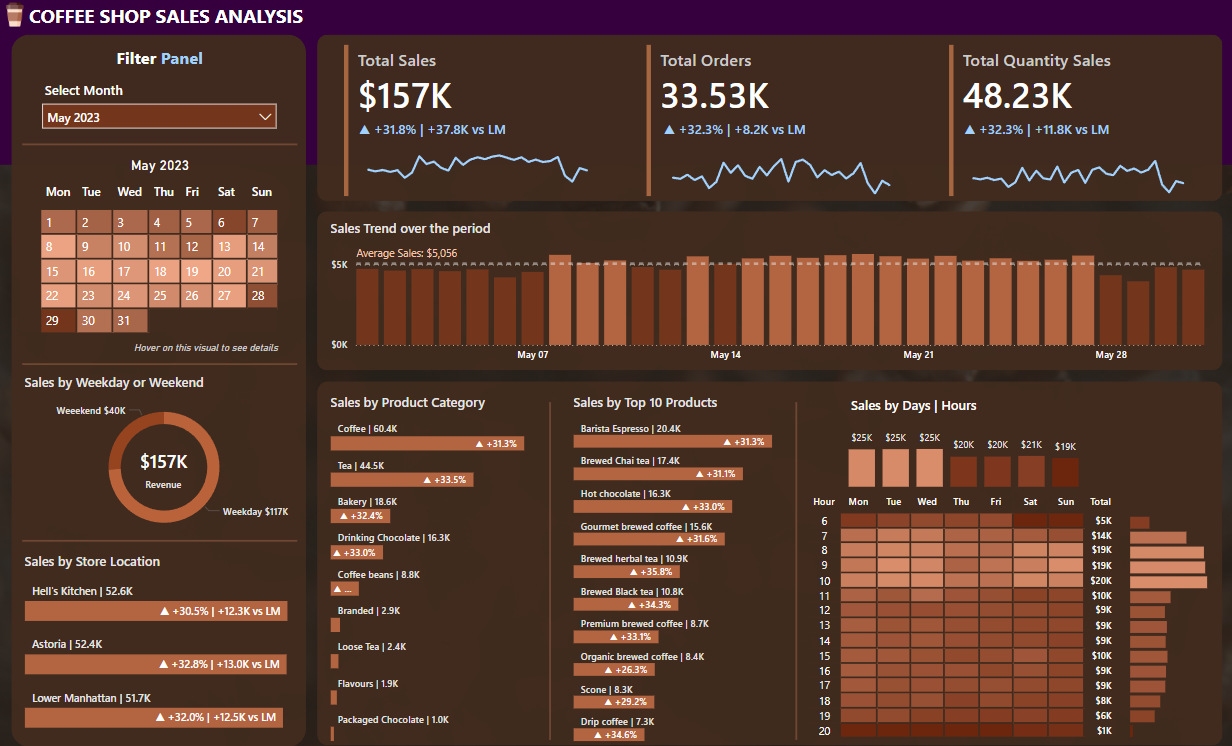

This screenshot's page, from the dashboard's own definition file:
{"tool":"powerbi","page":{"name":"Report Dashboard","canvas":[1400,850],"ordinal":0},"visuals":[{"type":"shape","box":[0,0,1400,190],"z":0},{"type":"shape","box":[15,42.5,333.8,806.2],"z":1000},{"type":"shape","box":[361.2,42.3,1025,188.7],"z":2000},{"type":"shape","box":[361.2,242.3,1025,180],"z":3000},{"type":"shape","box":[361.2,435,1025,412.5],"z":4000},{"type":"slicer","fields":{"Values":["DateTable.Month Year"]},"box":[40,90,285,72.5],"z":5000},{"type":"cardVisual","fields":{"Data":["Transactions.Total Sales"]},"box":[386.2,48.5,295,182.5],"z":6000},{"type":"cardVisual","fields":{"Data":["Transactions.Total Orders"]},"box":[728.8,48.5,295,182.5],"z":7000},{"type":"cardVisual","fields":{"Data":["Transactions.Total Quantity Sales"]},"box":[1071.2,48.5,295,182.5],"z":8000},{"type":"lineChart","fields":{"Y":["Transactions.Total Sales"],"Category":["DateTable.Date.Variation.Date Hierarchy.Year","DateTable.Date.Variation.Date Hierarchy.Quarter","DateTable.Date.Variation.Date Hierarchy.Month","DateTable.Date.Variation.Date Hierarchy.Day"]},"box":[403.8,139.8,277.5,91.2],"z":9000},{"type":"lineChart","fields":{"Y":["Transactions.Total Orders"],"Category":["DateTable.Date.Variation.Date Hierarchy.Year","DateTable.Date.Variation.Date Hierarchy.Quarter","DateTable.Date.Variation.Date Hierarchy.Month","DateTable.Date.Variation.Date Hierarchy.Day"]},"box":[748.8,139.8,275,88.8],"z":10000},{"type":"lineChart","fields":{"Y":["Transactions.Total Quantity Sales"],"Category":["DateTable.Date.Variation.Date Hierarchy.Year","DateTable.Date.Variation.Date Hierarchy.Quarter","DateTable.Date.Variation.Date Hierarchy.Month","DateTable.Date.Variation.Date Hierarchy.Day"]},"box":[1088.8,139.8,267.5,91.2],"z":11000},{"type":"card","fields":{"Values":["Min(DateTable.Month Year)"]},"box":[120,167.5,126.2,47.5],"z":12000},{"type":"textbox","box":[148.8,380.8,203.7,32.5],"z":13000},{"type":"pivotTable","fields":{"Columns":["DateTable.Day"],"Rows":["DateTable.Week Number"],"Values":["Min(DateTable.Date number)"]},"box":[20,201.2,325,206.2],"z":14000},{"type":"shape","box":[27.5,396.2,311.2,38.7],"z":15000},{"type":"shape","box":[27.5,147.5,311.2,38.7],"z":16000},{"type":"donutChart","title":"Sales by Weekday or Weekend","fields":{"Category":["DateTable.Weekday or Weekend"],"Y":["Transactions.Total Sales"]},"box":[25,426.2,325,192.5],"z":17000},{"type":"shape","box":[27.5,596.2,311.2,38.7],"z":18000},{"type":"card","fields":{"Values":["Transactions.Total Sales"]},"box":[123.8,507.5,126.2,53.8],"z":19000},{"type":"clusteredBarChart","title":"Sales by Store Location","fields":{"Y":["Transactions.Placehodler","Transactions.Total Sales"],"Category":["Transactions.store_location"]},"box":[25,628.8,336.2,206.2],"z":20000},{"type":"columnChart","title":"Sales Trend over the period","fields":{"Category":["Transactions.transaction_date"],"Y":["Transactions.Total Sales"]},"box":[371.2,251,1005,171.2],"z":21000},{"type":"clusteredBarChart","title":"Sales by Product Category","fields":{"Y":["Transactions.Placehodler","Transactions.Total Sales"],"Category":["Transactions.product_category"]},"box":[371.2,448.8,261.2,398.7],"z":22000},{"type":"shape","box":[881.2,458.8,45,382.5],"z":23000},{"type":"shape","box":[602.5,458.8,45,382.5],"z":24000},{"type":"clusteredBarChart","title":"Sales by Top 10 Products","fields":{"Y":["Transactions.Placehodler","Transactions.Total Sales"],"Category":["Transactions.product_type"]},"box":[646.2,448.8,270,398.7],"z":25000},{"type":"pivotTable","fields":{"Rows":["Transactions.Hour"],"Columns":["DateTable.Day"],"Values":["Transactions.Total Sales"]},"box":[912.5,557.5,362.5,292.5],"z":26000},{"type":"barChart","fields":{"Category":["Transactions.Hour"],"Y":["Transactions.Total Sales"]},"box":[1276.2,575,98.7,267.5],"z":26001},{"type":"columnChart","fields":{"Y":["Transactions.Total Sales"],"Category":["DateTable.Day"]},"box":[957.5,478.8,271.2,81.2],"z":26002},{"type":"card","fields":{"Values":["DateTable.Text"]},"box":[946.2,440,180,47.5],"z":26003},{"type":"textbox","box":[30,1.2,347.5,47.5],"z":26004},{"type":"image","box":[0,0,37.5,40],"z":26005},{"type":"textbox","box":[120,50,126.2,37.5],"z":26006}]}

Visuals, with their boxes in screenshot pixels (x1, y1, x2, y2), scaled from the page's 1400x850 canvas onto the 1232x746 screenshot:
shape: Rect(0, 0, 1231, 167)
shape: Rect(13, 37, 307, 745)
shape: Rect(318, 37, 1220, 203)
shape: Rect(318, 213, 1220, 371)
shape: Rect(318, 382, 1220, 744)
slicer - DateTable.Month Year: Rect(35, 79, 286, 143)
cardVisual - Transactions.Total Sales: Rect(340, 43, 599, 203)
cardVisual - Transactions.Total Orders: Rect(641, 43, 901, 203)
cardVisual - Transactions.Total Quantity Sales: Rect(943, 43, 1202, 203)
lineChart - Transactions.Total Sales x DateTable.Date.Variation.Date Hierarchy.Year: Rect(355, 123, 600, 203)
lineChart - Transactions.Total Orders x DateTable.Date.Variation.Date Hierarchy.Year: Rect(659, 123, 901, 201)
lineChart - Transactions.Total Quantity Sales x DateTable.Date.Variation.Date Hierarchy.Year: Rect(958, 123, 1194, 203)
card - Min(DateTable.Month Year): Rect(106, 147, 217, 189)
textbox: Rect(131, 334, 310, 363)
pivotTable - DateTable.Day x DateTable.Week Number: Rect(18, 177, 304, 358)
shape: Rect(24, 348, 298, 382)
shape: Rect(24, 129, 298, 163)
"Sales by Weekday or Weekend" donutChart: Rect(22, 374, 308, 543)
shape: Rect(24, 523, 298, 557)
card - Transactions.Total Sales: Rect(109, 445, 220, 493)
"Sales by Store Location" clusteredBarChart: Rect(22, 552, 318, 733)
"Sales Trend over the period" columnChart: Rect(327, 220, 1211, 371)
"Sales by Product Category" clusteredBarChart: Rect(327, 394, 557, 744)
shape: Rect(775, 403, 815, 738)
shape: Rect(530, 403, 570, 738)
"Sales by Top 10 Products" clusteredBarChart: Rect(569, 394, 806, 744)
pivotTable - Transactions.Hour x DateTable.Day: Rect(803, 489, 1122, 745)
barChart - Transactions.Hour x Transactions.Total Sales: Rect(1123, 505, 1210, 739)
columnChart - Transactions.Total Sales x DateTable.Day: Rect(843, 420, 1081, 491)
card - DateTable.Text: Rect(833, 386, 991, 428)
textbox: Rect(26, 1, 332, 43)
image: Rect(0, 0, 33, 35)
textbox: Rect(106, 44, 217, 77)
